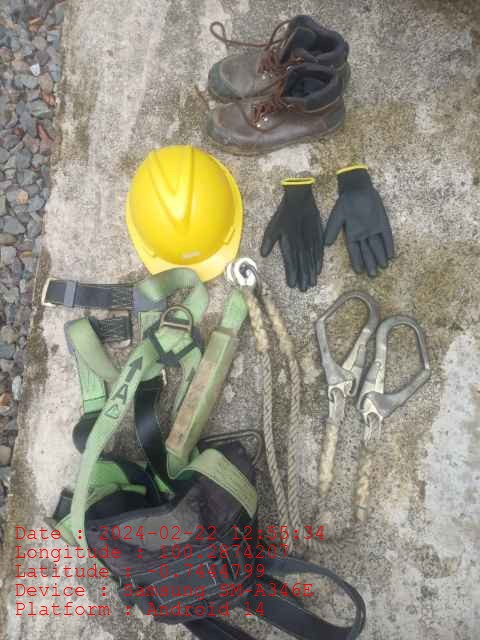HELM: (127, 143, 236, 279)
SARUNG TANGAN: (262, 171, 395, 288)
SEPATU: (203, 17, 350, 148)
TAMBANG_SLING: (252, 294, 428, 521)
